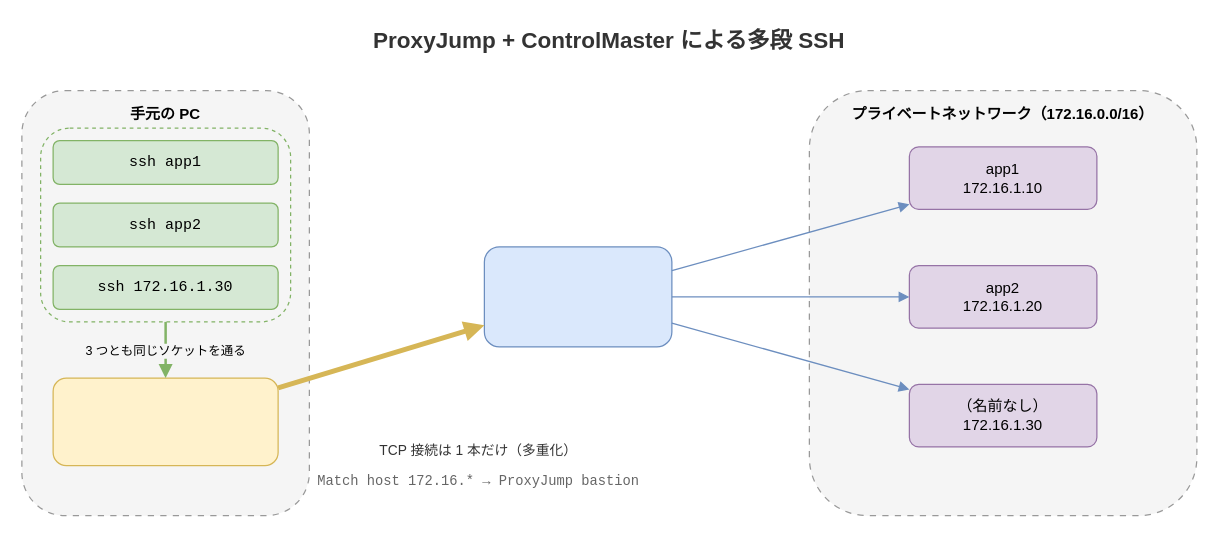
Some shapes in this 1219 by 538 pixel diagram are drawn without their labels. Here are the shapes that lost their labels. From the top down, the centre of each, then its label:
At point (577, 296): "bastion 踏み台ホスト パブリック IP".
At point (165, 421): "ControlPath ~/.ssh/cp-%r@%h:%p （bastion 向けのソケット）".
